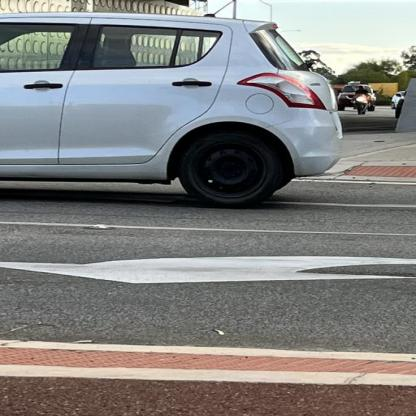Tire: (177, 128, 282, 208)
